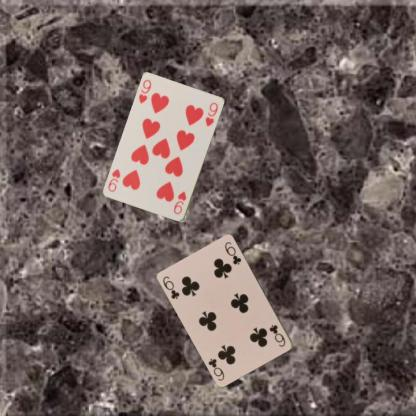6c: (267, 322, 287, 348), (160, 274, 180, 300)
9h: (136, 77, 152, 105), (171, 189, 188, 215)
